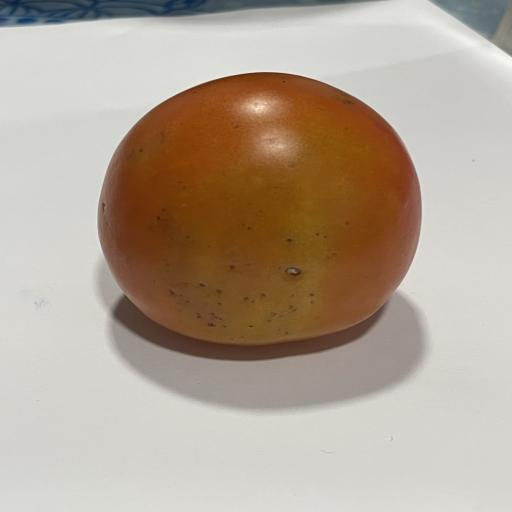unripe: (98, 73, 421, 345)
